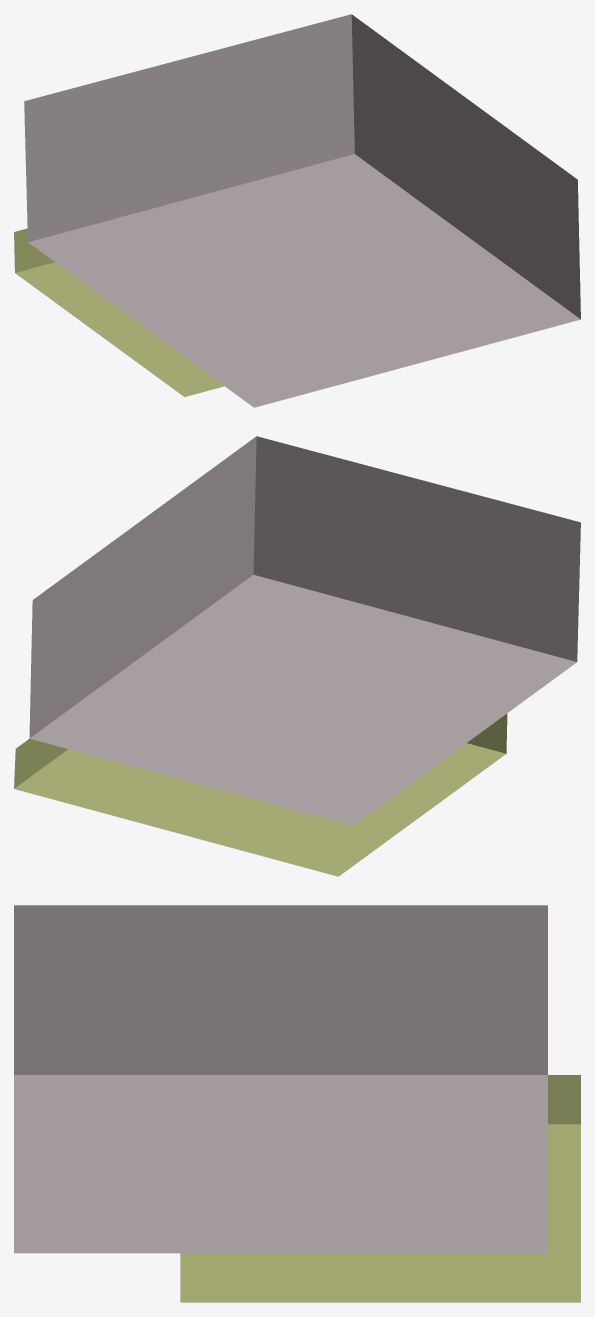
The picture shows the model from 3 angles, top to bottom: view 1: azimuth 30°, elevation 25°; view 2: azimuth 150°, elevation 25°; view 3: azimuth 270°, elevation 25°; orthographic projection. The views are drawn at different scales.
Parts seen in each view (by area): view 1: 0_1_2_3_3_3_3_3_2_3_3; view 2: 0_1_2_3_3_3_3_3_2_3_3; view 3: 0_1_2_3_3_3_3_3_2_3_3.
Boxes of the visible parts, x1,y1,x2,y2 form: 0_1_2_3_3_3_3_3_2_3_3: (14,14,580,407); 0_1_2_3_3_3_3_3_2_3_3: (14,436,580,876); 0_1_2_3_3_3_3_3_2_3_3: (14,905,580,1302).
Bounding box in the file's own units: 10.18 × 5.57 × 12.74.
